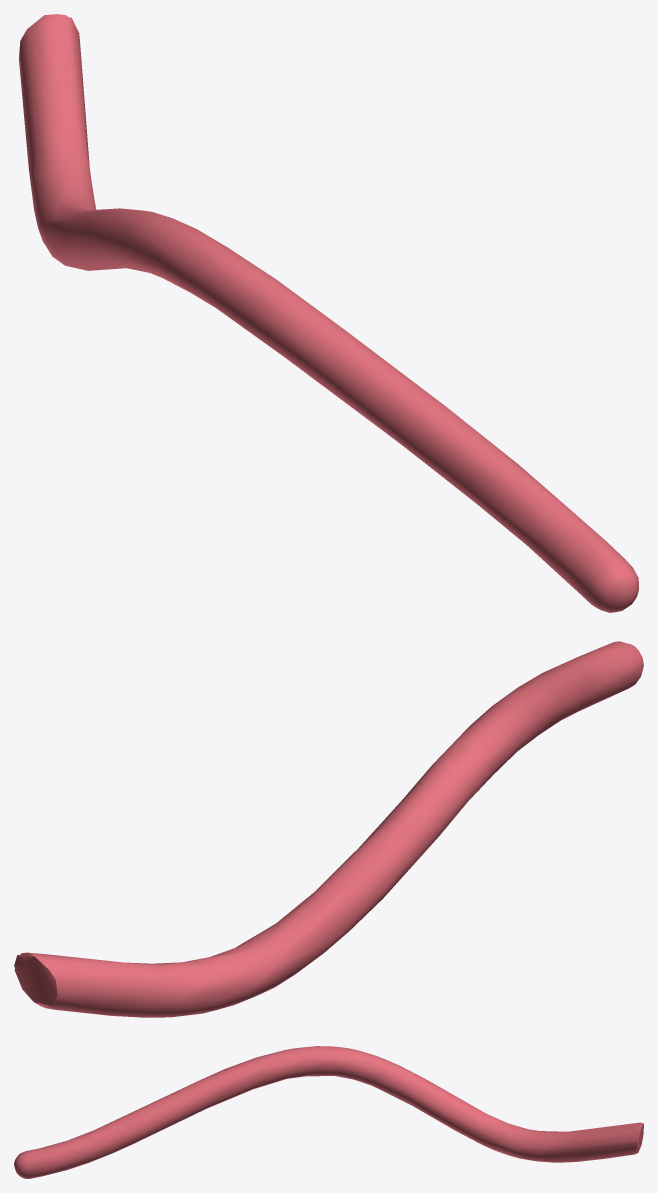
File: fma44499_fj2165.glb
The picture shows the model from 3 angles, top to bottom: view 1: azimuth 30°, elevation 25°; view 2: azimuth 150°, elevation 25°; view 3: azimuth 270°, elevation 25°; orthographic projection. The views are drawn at different scales.
Parts seen in each view (by area): view 1: FMA44499_FJ2165; view 2: FMA44499_FJ2165; view 3: FMA44499_FJ2165.
Part boxes in pixels (box(x1,y1,x2,y2)): FMA44499_FJ2165: box(19, 14, 638, 612); FMA44499_FJ2165: box(14, 641, 643, 1017); FMA44499_FJ2165: box(14, 1046, 643, 1178).
Bounding box in the file's own units: 0.00863 × 0.00689 × 0.0399.
